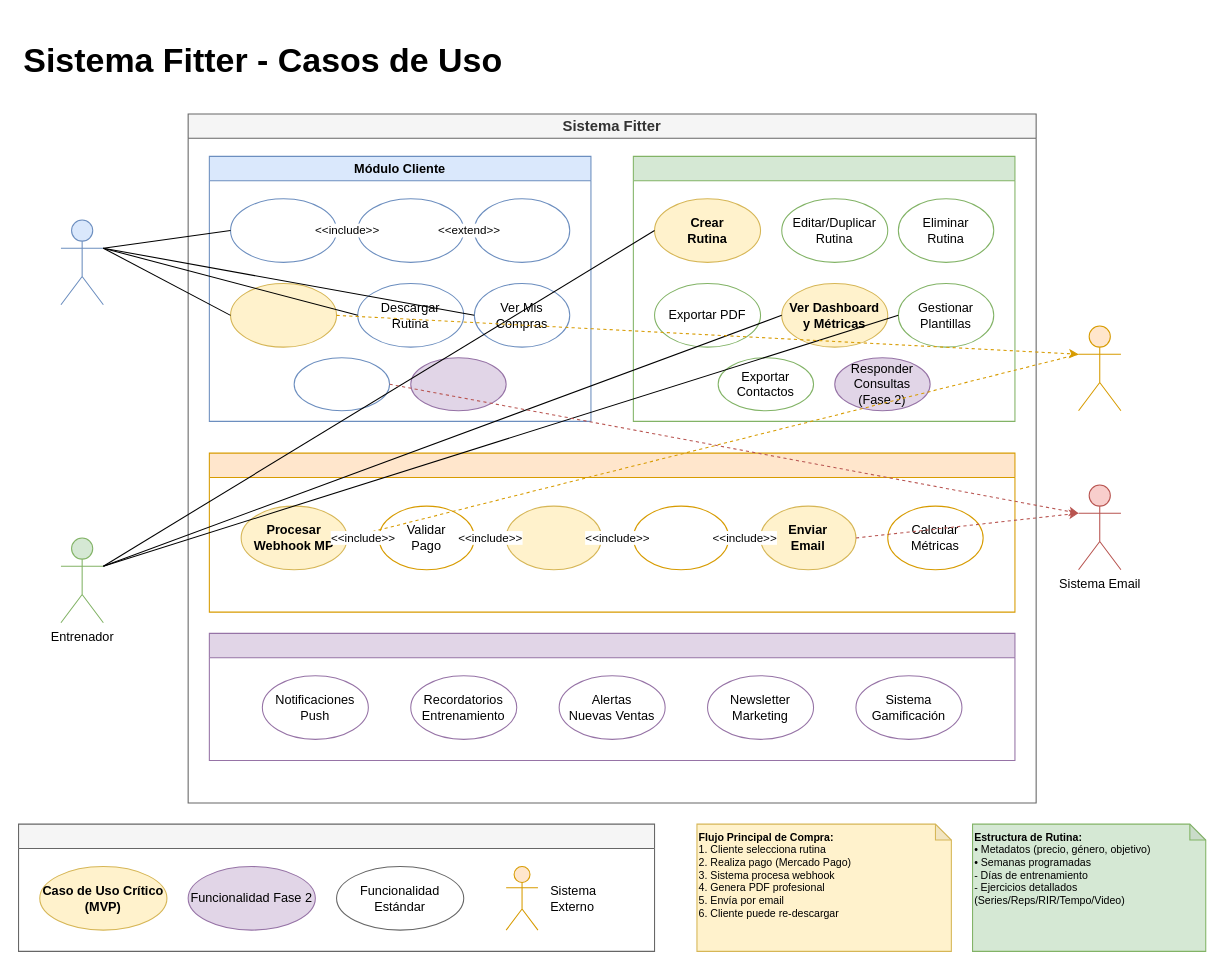
This 1224x970 diagram has some shape labels left out. Each missing label, with the box of its shape:
Almacenar PDF: (632, 505, 729, 570)
Cliente: (60, 219, 103, 305)
Filtrar y Ver Rutinas: (357, 198, 464, 262)
Generar PDF: (505, 505, 602, 570)
LEYENDA: (17, 823, 655, 951)
Mercado Pago: (1077, 325, 1121, 411)
Módulo Entrenador: (632, 155, 1015, 421)
Módulo Sistema (Backend): (208, 452, 1015, 612)
Realizar Pago: (229, 282, 337, 347)
Reenviar por Email: (293, 357, 390, 411)
Seleccionar Género/Objetivo: (229, 198, 337, 262)
Sistema de Notificaciones (Fase 2): (208, 632, 1015, 761)
Trackear Progreso (Fase 2): (410, 357, 506, 411)
Vista Previa Detallada: (473, 198, 570, 262)
